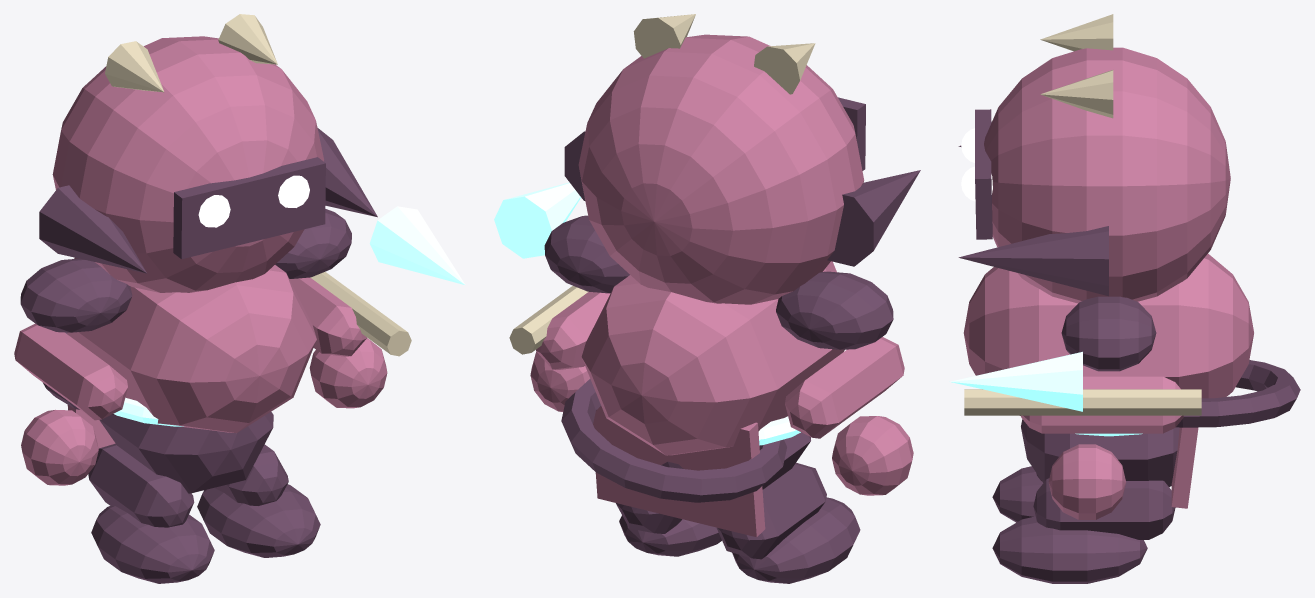
File: monster-imp-sd-toon.glb
3 renders of one model, left to right at view 1: azimuth 30°, elevation 25°; view 2: azimuth 150°, elevation 25°; view 3: azimuth 270°, elevation 25°, orthographic. The views are drawn at different scales.
Parts seen in each view (by area): view 1: head, body, mask, pelvis, footL, shoulderL, footR, armL, legL, earL, handL, signature (+11 smaller); view 2: head, body, tail, cloth, shoulderL, armL, footL, handL, legL, earL, shoulderR, signature (+11 smaller); view 3: head, body, footR, earR, shoulderR, weapon, pelvis, legR, handR, tail, armR, signature (+5 smaller).
Part boxes in pixels (left/top/right/bottom): head: left=52, top=36, right=324, bottom=292; body: left=67, top=257, right=316, bottom=433; mask: left=173, top=157, right=325, bottom=259; pelvis: left=99, top=412, right=273, bottom=493; footL: left=91, top=506, right=214, bottom=583; shoulderL: left=20, top=258, right=132, bottom=332; footR: left=197, top=484, right=320, bottom=557; armL: left=14, top=323, right=127, bottom=420; legL: left=88, top=443, right=194, bottom=527; earL: left=39, top=185, right=146, bottom=273; handL: left=21, top=409, right=98, bottom=485; signature: left=369, top=206, right=465, bottom=285; head: left=578, top=34, right=864, bottom=304; body: left=581, top=261, right=844, bottom=455; tail: left=561, top=379, right=786, bottom=502; cloth: left=593, top=406, right=765, bottom=537; shoulderL: left=776, top=271, right=893, bottom=349; armL: left=785, top=337, right=904, bottom=438; footL: left=732, top=497, right=860, bottom=583; handL: left=832, top=416, right=913, bottom=495; legL: left=716, top=462, right=826, bottom=559; earL: left=827, top=170, right=920, bottom=266; shoulderR: left=544, top=215, right=629, bottom=293; signature: left=494, top=182, right=580, bottom=258; head: left=984, top=47, right=1230, bottom=303; body: left=963, top=254, right=1253, bottom=415; footR: left=992, top=516, right=1147, bottom=583; earR: left=958, top=226, right=1108, bottom=296; shoulderR: left=1061, top=296, right=1156, bottom=371; weapon: left=964, top=389, right=1201, bottom=415; pelvis: left=1021, top=419, right=1179, bottom=487; legR: left=1033, top=478, right=1175, bottom=539; handR: left=1048, top=444, right=1126, bottom=519; tail: left=1176, top=360, right=1300, bottom=427; armR: left=1021, top=376, right=1183, bottom=433; signature: left=949, top=351, right=1082, bottom=411.
Size of the model in its own units: 2.1 by 2.59 by 1.63.
